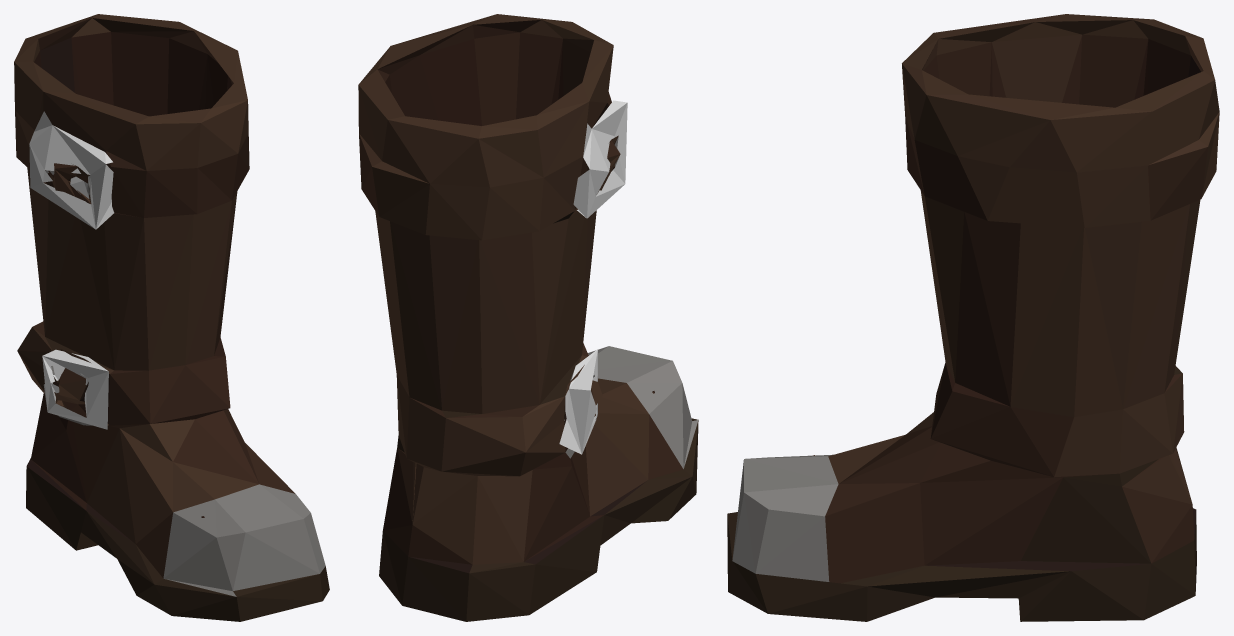
Rendered from aiwpn_boots.glb.
3 views of the same model, side by side, from view 1: azimuth 30°, elevation 25°; view 2: azimuth 150°, elevation 25°; view 3: azimuth 270°, elevation 25° (orthographic). The views are drawn at different scales.
Parts seen in each view (by area): view 1: ca_aiwpn_boots; view 2: ca_aiwpn_boots; view 3: ca_aiwpn_boots.
Boxes of the visible parts, bbox=[...] form: ca_aiwpn_boots: bbox=[14, 14, 329, 621]; ca_aiwpn_boots: bbox=[358, 14, 698, 621]; ca_aiwpn_boots: bbox=[727, 14, 1219, 621].
Bounding box in the file's own units: 0.2054 × 0.4504 × 0.3851.
